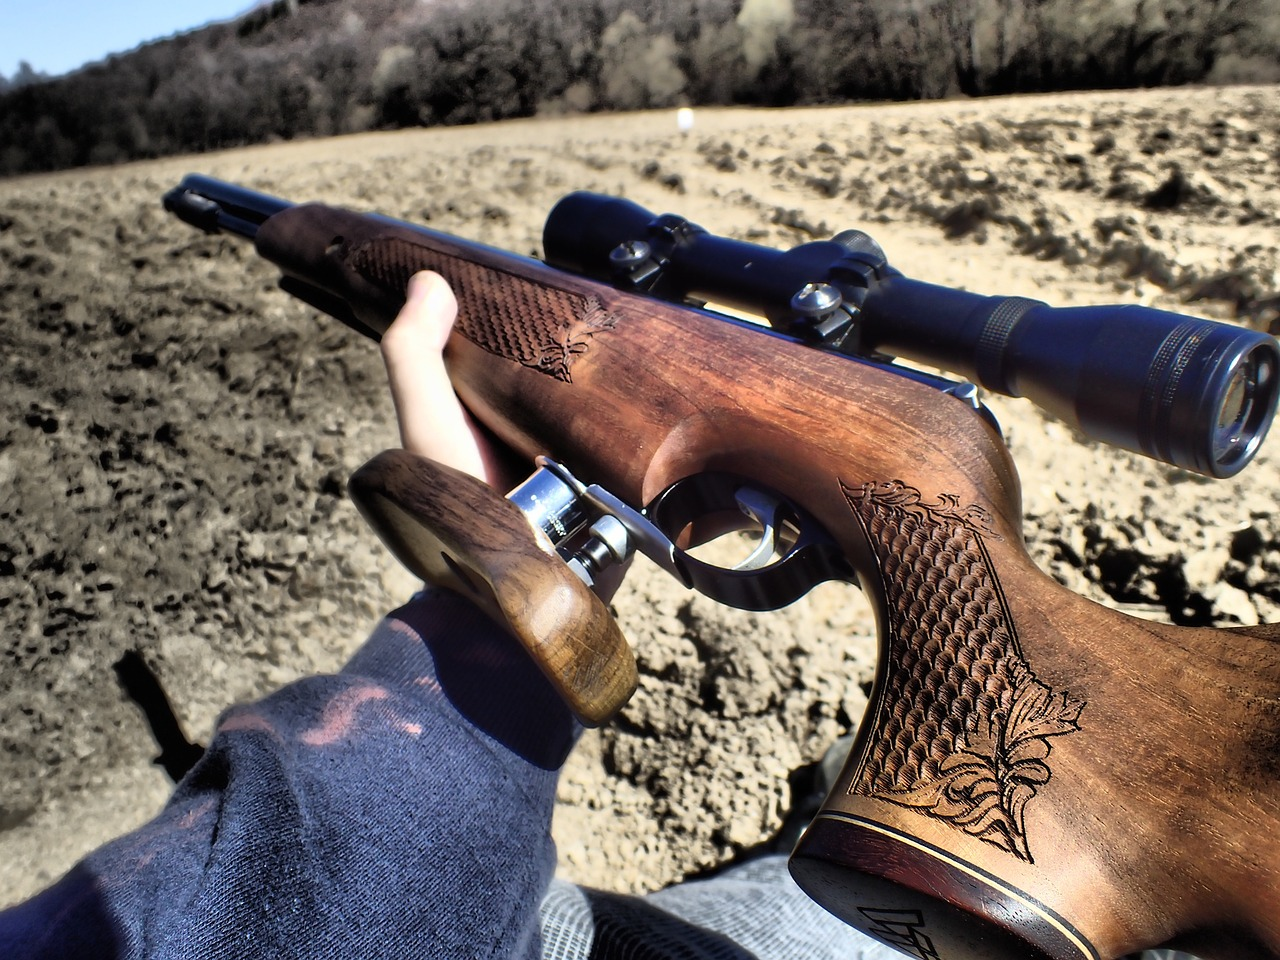gun: (154, 168, 1280, 960)
